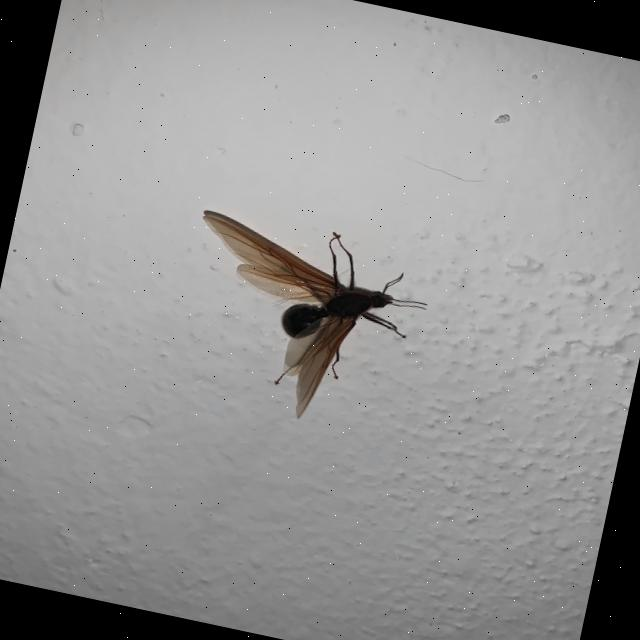Alive-Male-Alate: (164, 204, 438, 441)
